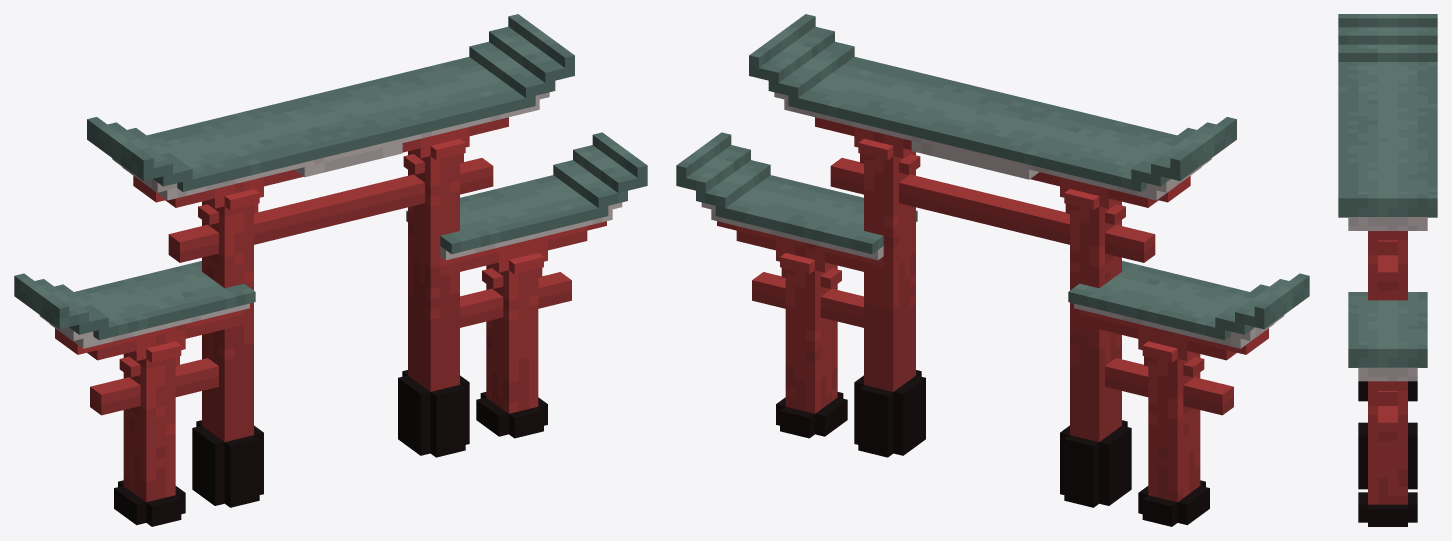
The model's file is 2022 Torii (Wheezy Woods)-23.obj.
3 renders of one model, left to right at view 1: azimuth 30°, elevation 25°; view 2: azimuth 150°, elevation 25°; view 3: azimuth 270°, elevation 25°, orthographic. The views are drawn at different scales.
Size of the model in its own units: 6 by 3.7 by 1.
1 material, 1 textured.
